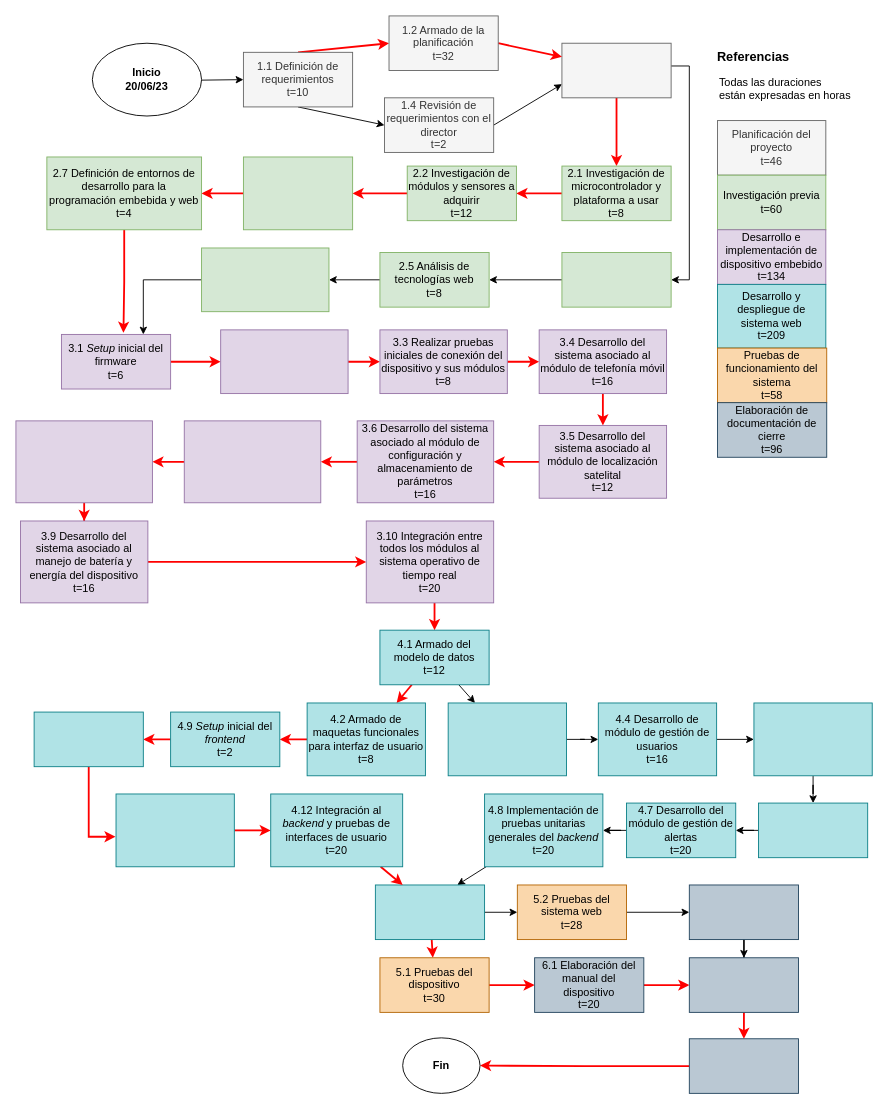
Some shapes in this 888 by 1109 pixel diagram are drawn without their labels. Here are the shapes that lost their labels. From the top down, the box of each, then its label:
(561, 42, 671, 98): 1.3 Revisión de la planificación t=2
(243, 156, 353, 230): 2.3 Análisis del consumo de energía del dispositivo y los módulos t=8
(201, 247, 329, 312): 2.6 Investigación de servicios para interfaz web receptora de SMS t=12
(561, 252, 671, 307): 2.4 Investigación y comparación de proveedores cloud t=8
(220, 329, 348, 394): 3.2 Diagrama esquemático del dispositivo y sus módulos t=8
(15, 420, 152, 503): 3.8 Desarrollo del sistema asociado al módulo de alertas t=12
(183, 420, 321, 503): 3.7 Desarrollo del sistema asociado a la gestión del estado del dispositivo t=20
(33, 711, 143, 767): 4.10 Desarrollo de interfaces de usuario de administración t=25
(447, 702, 566, 776): 4.3 Setup inicial del backend t=4
(753, 702, 872, 776): 4.5 Desarrollo de módulo de gestión de dispositivos t=16
(115, 793, 234, 867): 4.11 Desarrollo de interfaz de usuario para gestión de alertas t=40
(758, 802, 868, 858): 4.6 Implementación de módulo de recepción de alertas t=16
(374, 884, 485, 940): 4.13 Despliegue del sistema web t=6
(688, 884, 799, 940): 6.2 Elaboración de documentación del sistema web t=16
(688, 957, 799, 1012): 7.1 Elaboración de memoria técnica del proyecto t=40
(688, 1038, 799, 1093): 7.2 Elaboración de presentación del proyecto t=20
